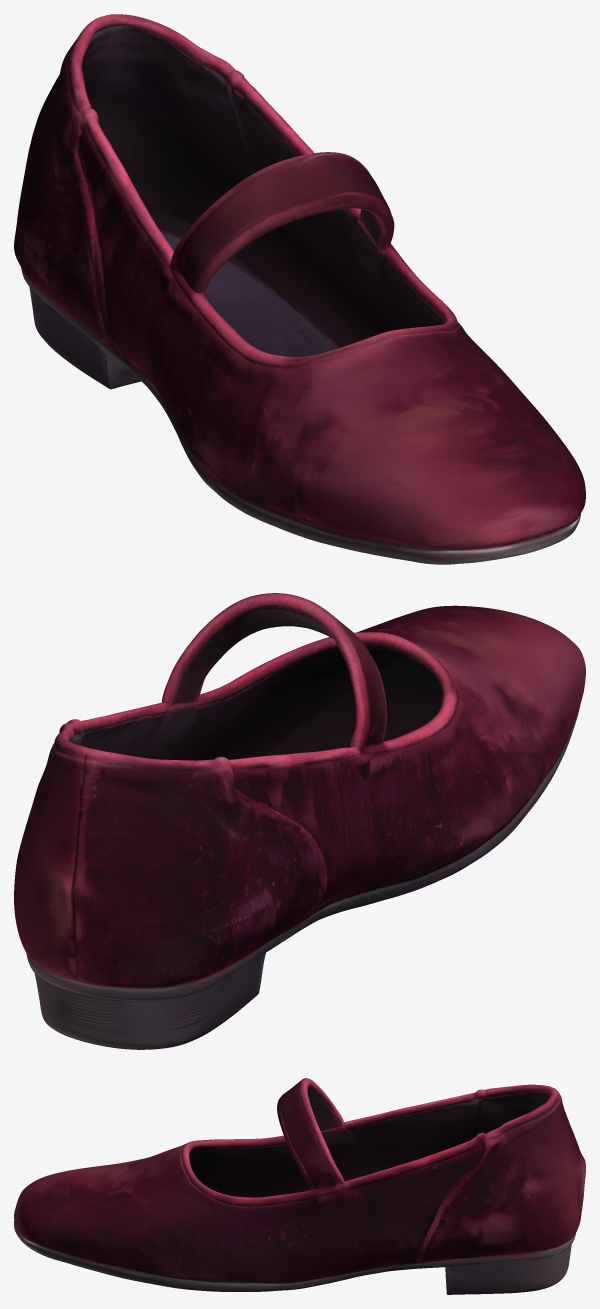
File: opera-night-slipper.glb
The picture shows the model from 3 angles, top to bottom: view 1: azimuth 30°, elevation 25°; view 2: azimuth 150°, elevation 25°; view 3: azimuth 270°, elevation 25°; orthographic projection. The views are drawn at different scales.
Parts seen in each view (by area): view 1: model; view 2: model; view 3: model.
Boxes of the visible parts, x1,y1,x2,y2 form: model: (14,14,585,564); model: (14,593,585,1049); model: (14,1078,585,1294).
Bounding box in the file's own units: 0.6294 × 0.6638 × 1.83.
Materials: 1 (1 with a texture image).
